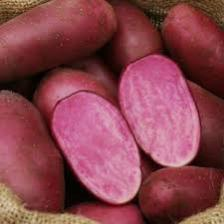Defected potato: (48, 90, 145, 208), (115, 50, 201, 170), (0, 84, 66, 224), (0, 1, 119, 71), (133, 165, 224, 223), (163, 2, 224, 87), (105, 0, 168, 77)
